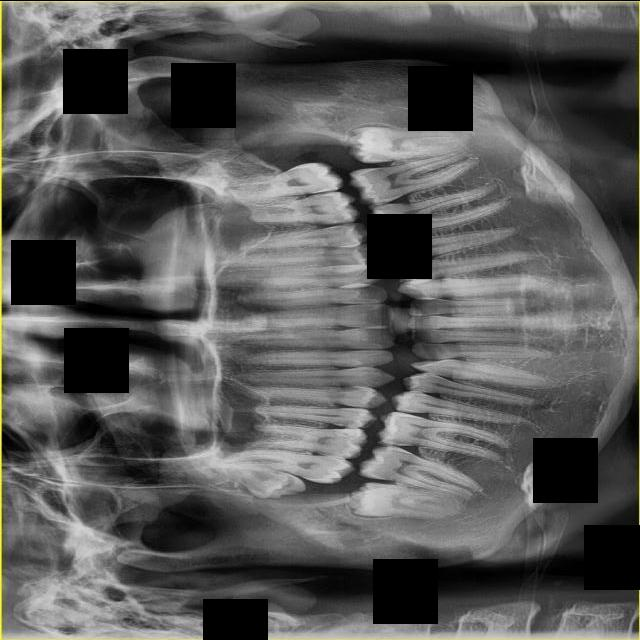Sterngold Implant: (332, 222, 355, 235), (335, 418, 360, 427), (329, 214, 350, 224), (377, 198, 389, 204), (386, 218, 397, 224)
Straumann Implant: (335, 428, 362, 436)
